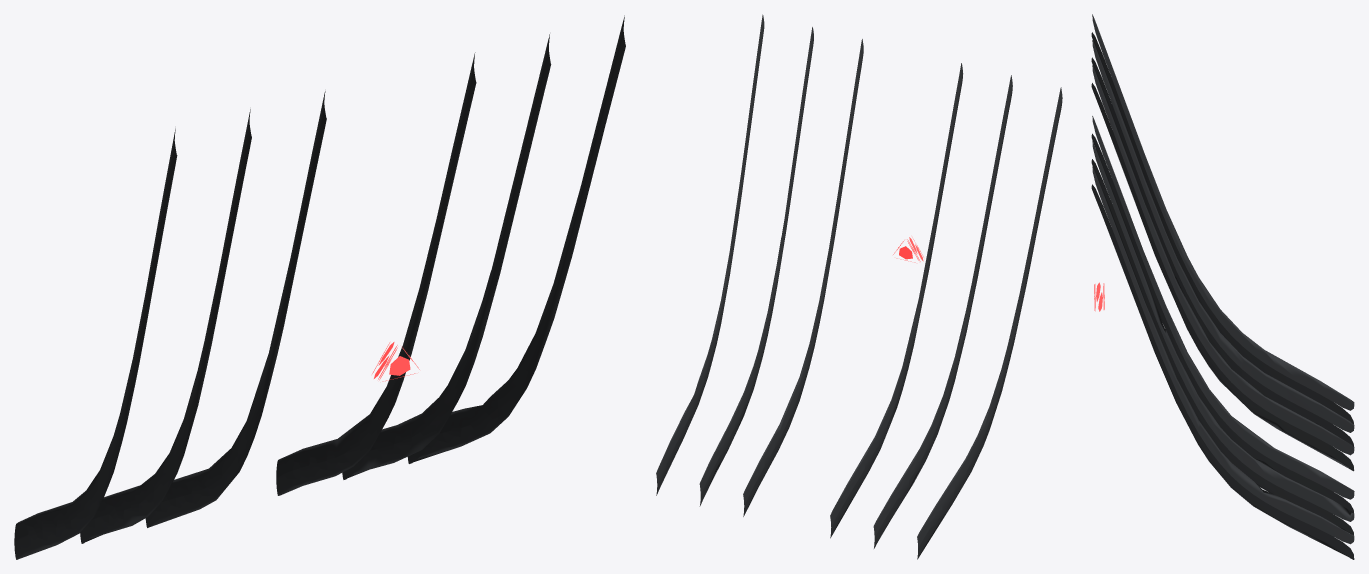
Rendered from diffuser_strakes_light.glb.
3 renders of one model, left to right at view 1: azimuth 30°, elevation 25°; view 2: azimuth 150°, elevation 25°; view 3: azimuth 270°, elevation 25°, orthographic. The views are drawn at different scales.
Parts seen in each view (by area): view 1: Diffuser_Strakes_Rain_Light_Assembly; view 2: Diffuser_Strakes_Rain_Light_Assembly; view 3: Diffuser_Strakes_Rain_Light_Assembly.
Part boxes in pixels (x1,y1,x2,y2): Diffuser_Strakes_Rain_Light_Assembly: (14, 15, 625, 559); Diffuser_Strakes_Rain_Light_Assembly: (656, 14, 1062, 559); Diffuser_Strakes_Rain_Light_Assembly: (1091, 14, 1354, 559).
Size of the model in its own units: 0.9675 by 1.19 by 0.7019.
